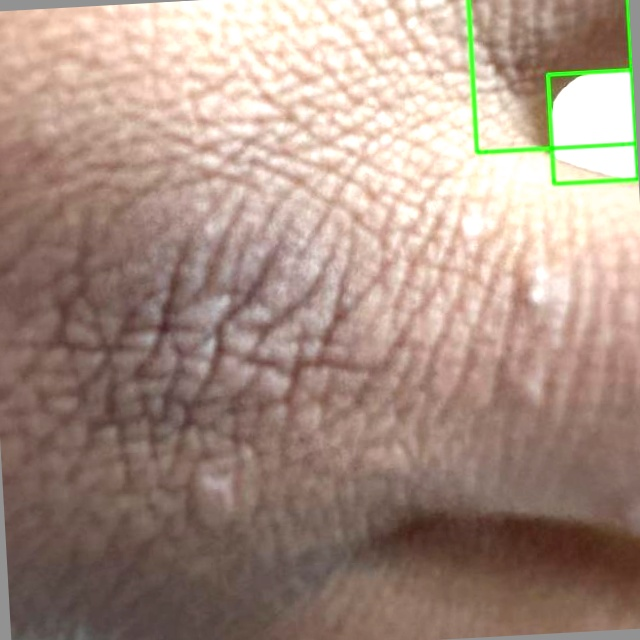Contact Dermatitis: (468, 0, 635, 152), (547, 69, 637, 183)
